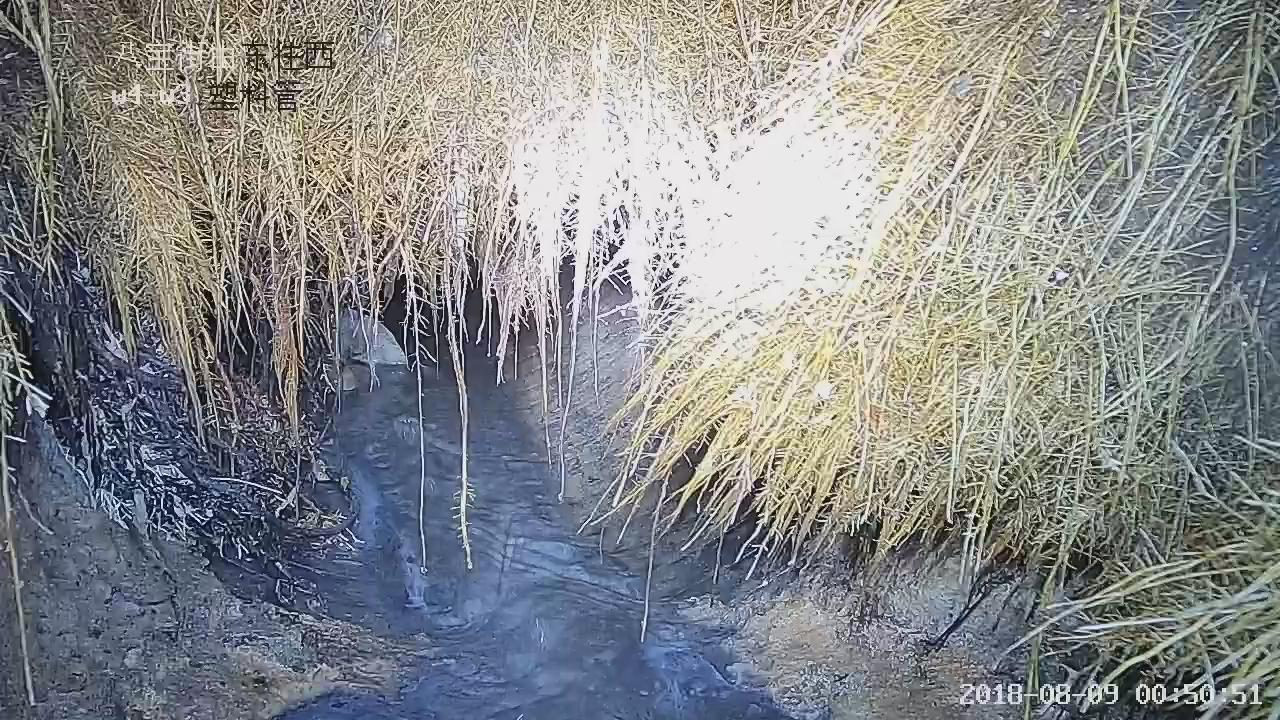SG: (0, 0, 1279, 705), (0, 0, 1279, 704)
